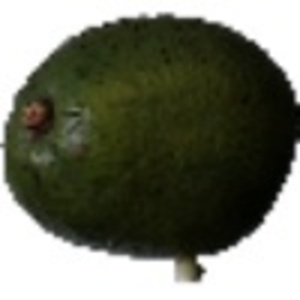abacate: (3, 14, 298, 256)
